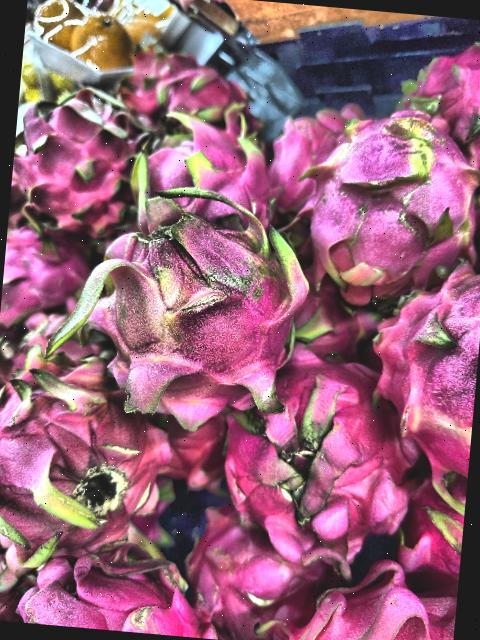buah-naga-belum-matang: (62, 192, 317, 422), (303, 98, 480, 298)
buah-naga-matang: (220, 341, 422, 564), (0, 357, 185, 566), (356, 267, 480, 467), (4, 543, 224, 639), (170, 506, 322, 640), (8, 91, 147, 229), (117, 42, 266, 148), (293, 551, 459, 640), (391, 34, 480, 189), (0, 218, 93, 336)
